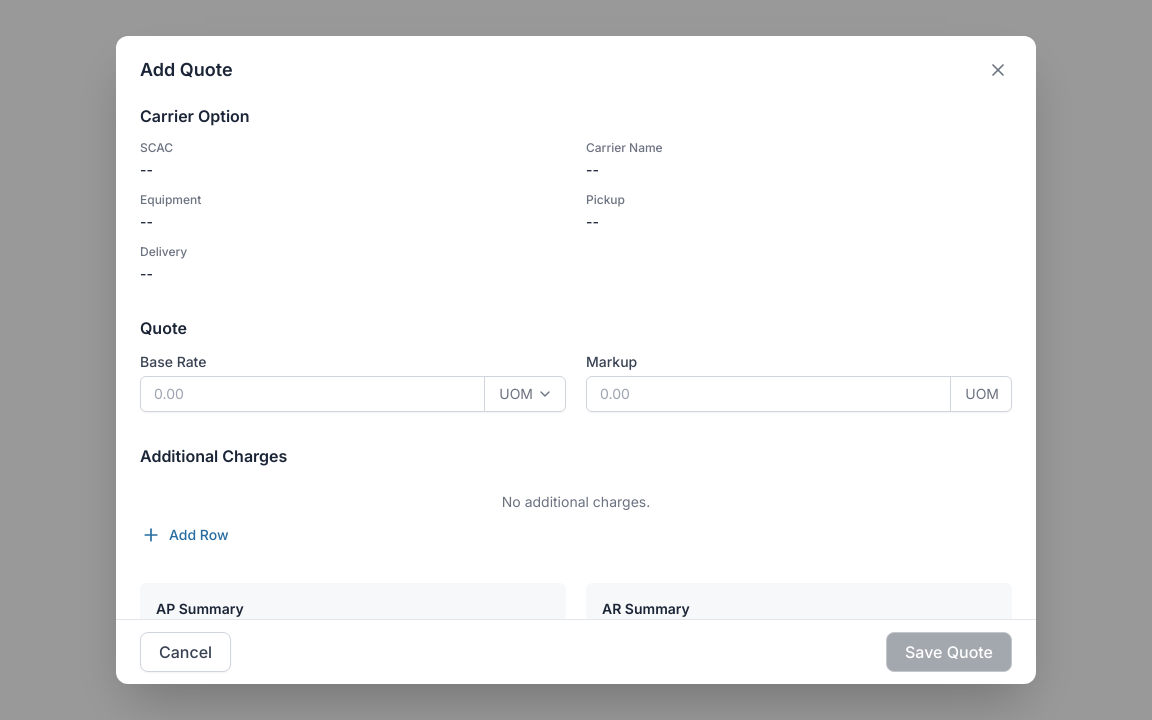
Test: QuoteModal — Currency + Charge Code from the shared lookup (LINX-13895/3966) › selecting a charge code (via keyboard, bypassing the unassertable virtualized rows) auto-populates Charge Description
This screenshot has width=1152, height=720.
Click the button "Add Row" at (185, 535), box [140,524,230,546]
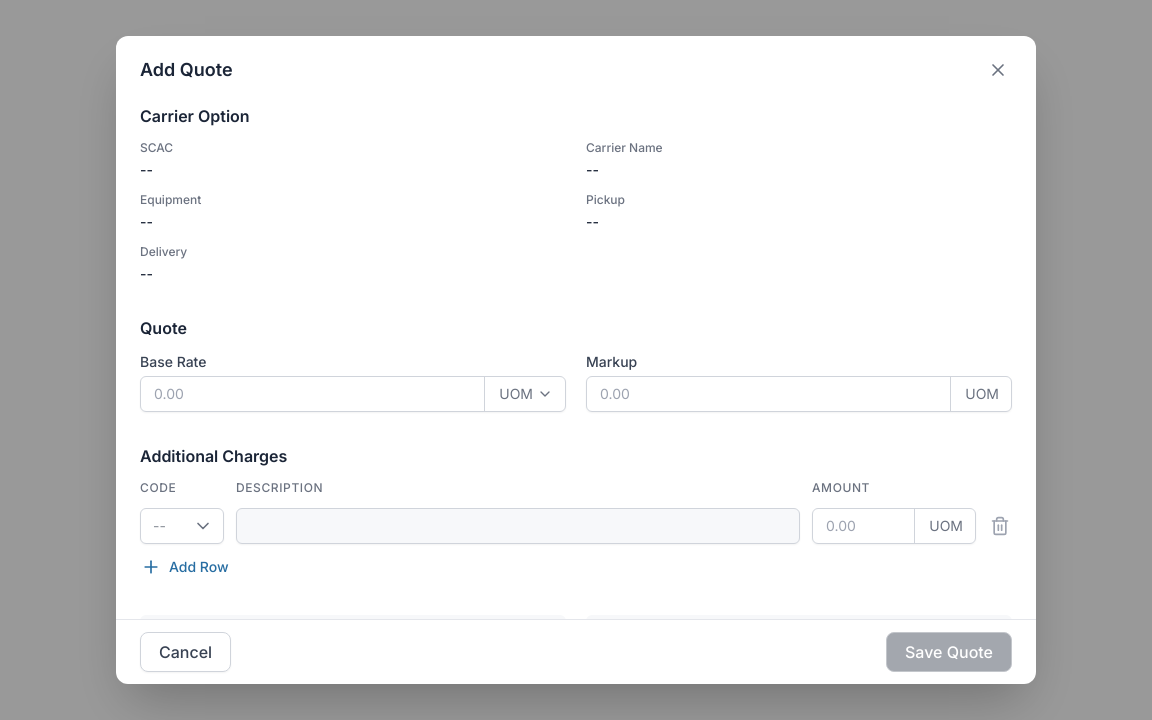
Focus the dropdown at (171, 526), box [153,516,189,536]
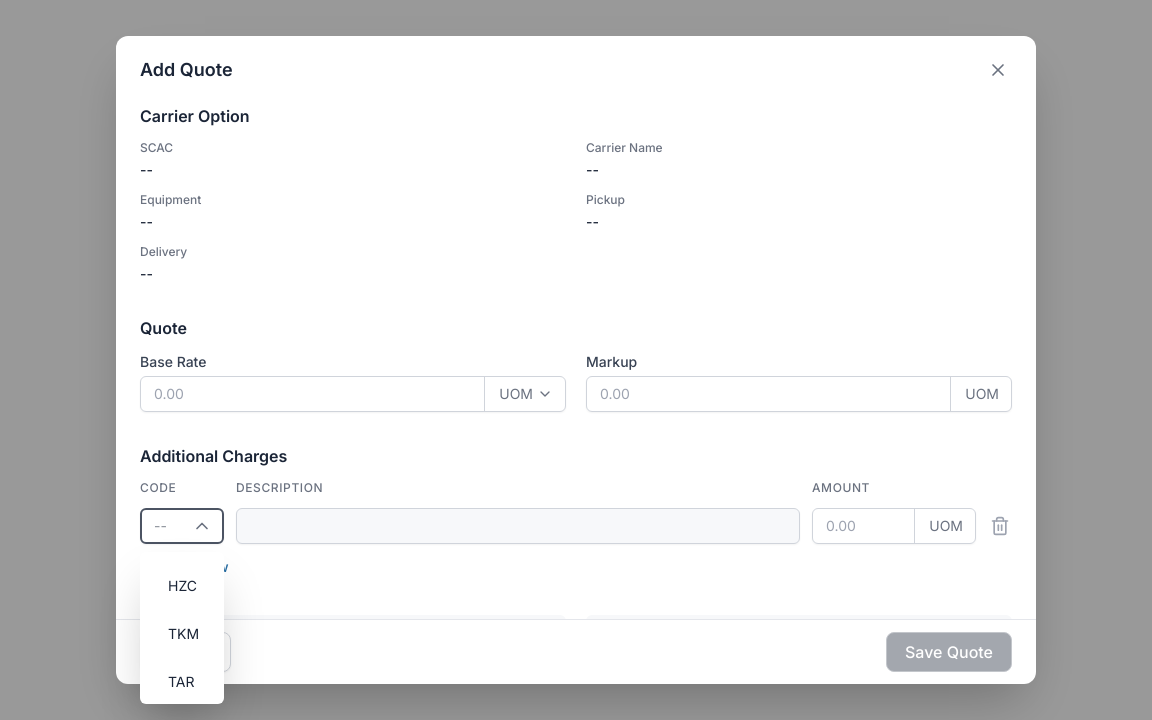
Press ArrowDown in the dropdown, box [154,516,188,536]
Press Enter in the dropdown, box [154,516,188,536]
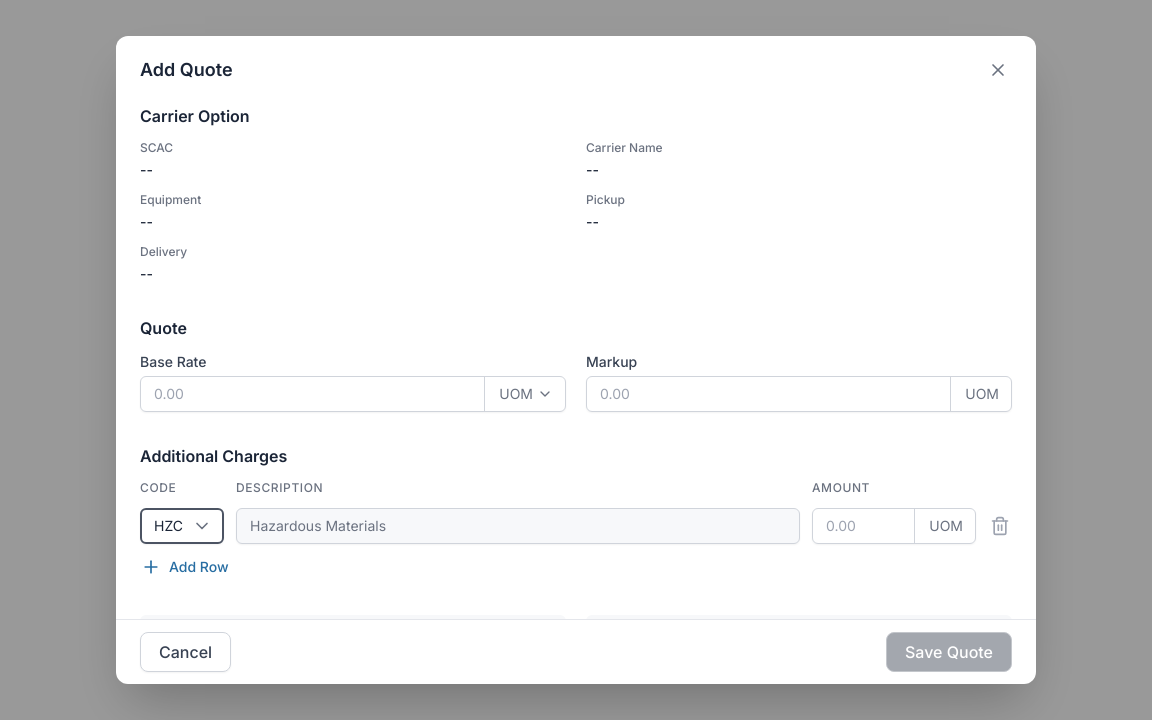
Now the dropdown showing "HZC" is shown, box [154,516,188,536]
Now the field showing "Hazardous Materials" is shown, box [250,516,786,536]
